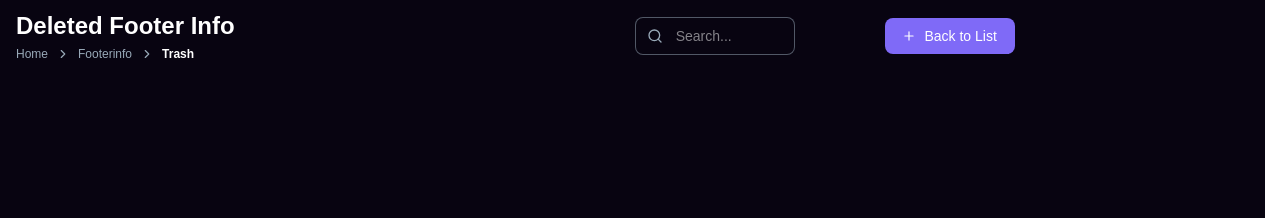
Test case: FooterInfoTrashListTemplate › filters trash footers by search term
This screenshot has width=1265, height=218.
Type "Trash Footer 1" into the field with placeholder "Search..." at (715, 36), box [635,17,795,55]
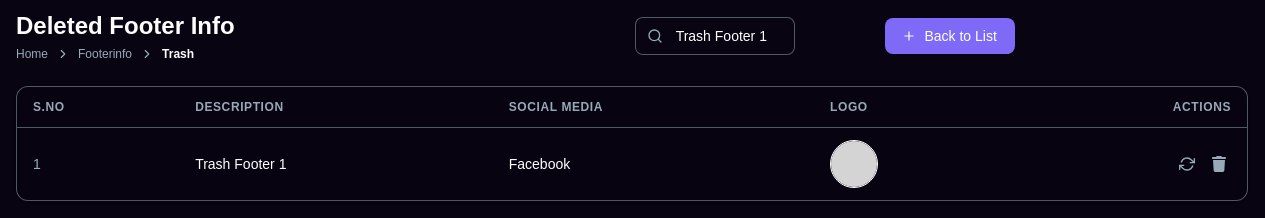
Now the text "Trash Footer 1" is shown, box [179,128,493,200]
